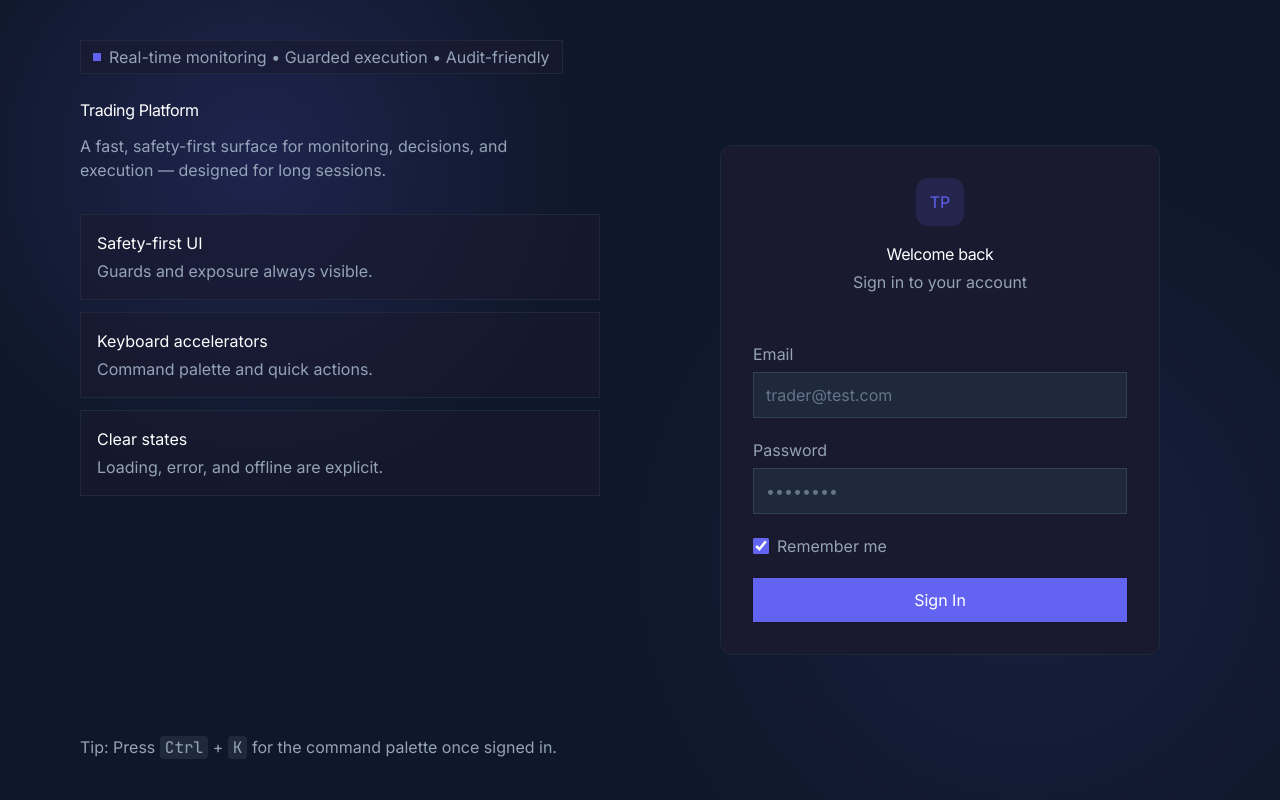
Scenario: LoginPage › shows validation error for empty password
In the field with test id "email-input": (940, 395) [753, 372, 1127, 418], type "test@example.com"
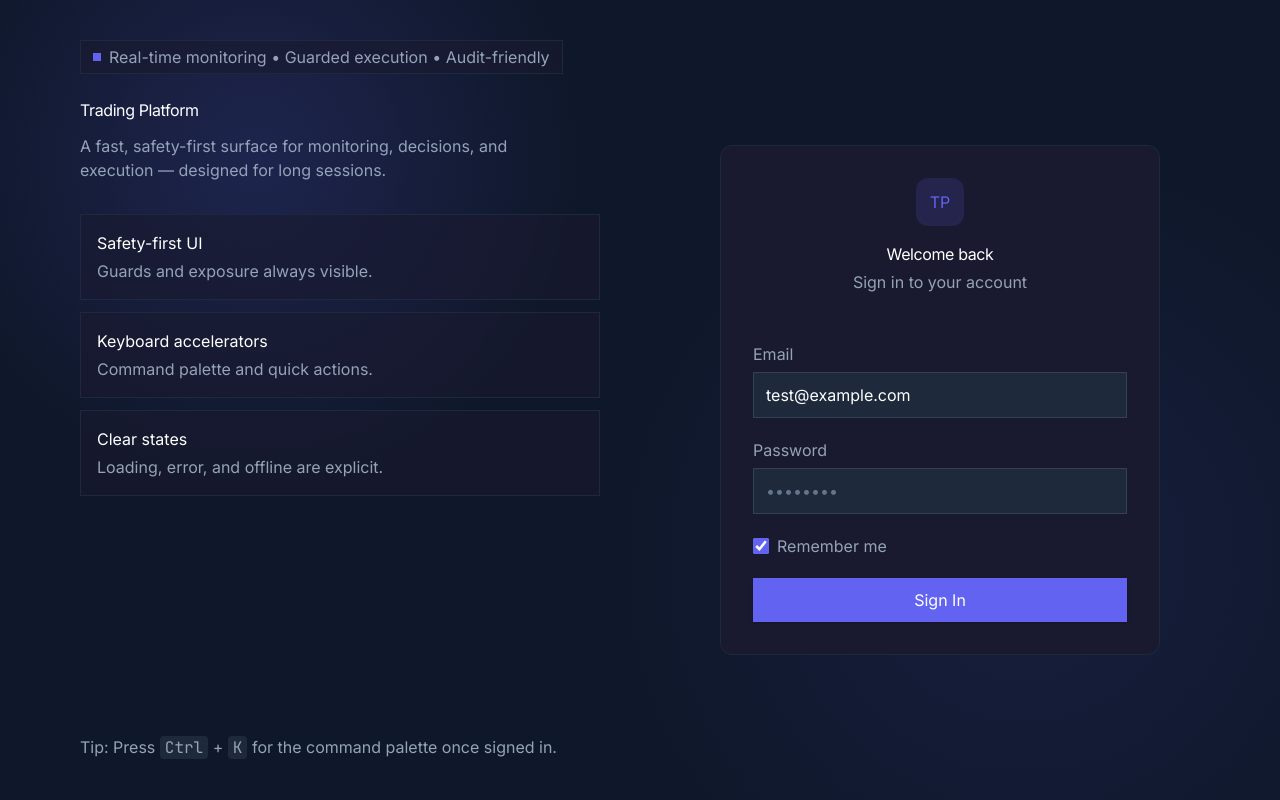
Click the button with test id "login-button": (940, 600) [753, 578, 1127, 622]
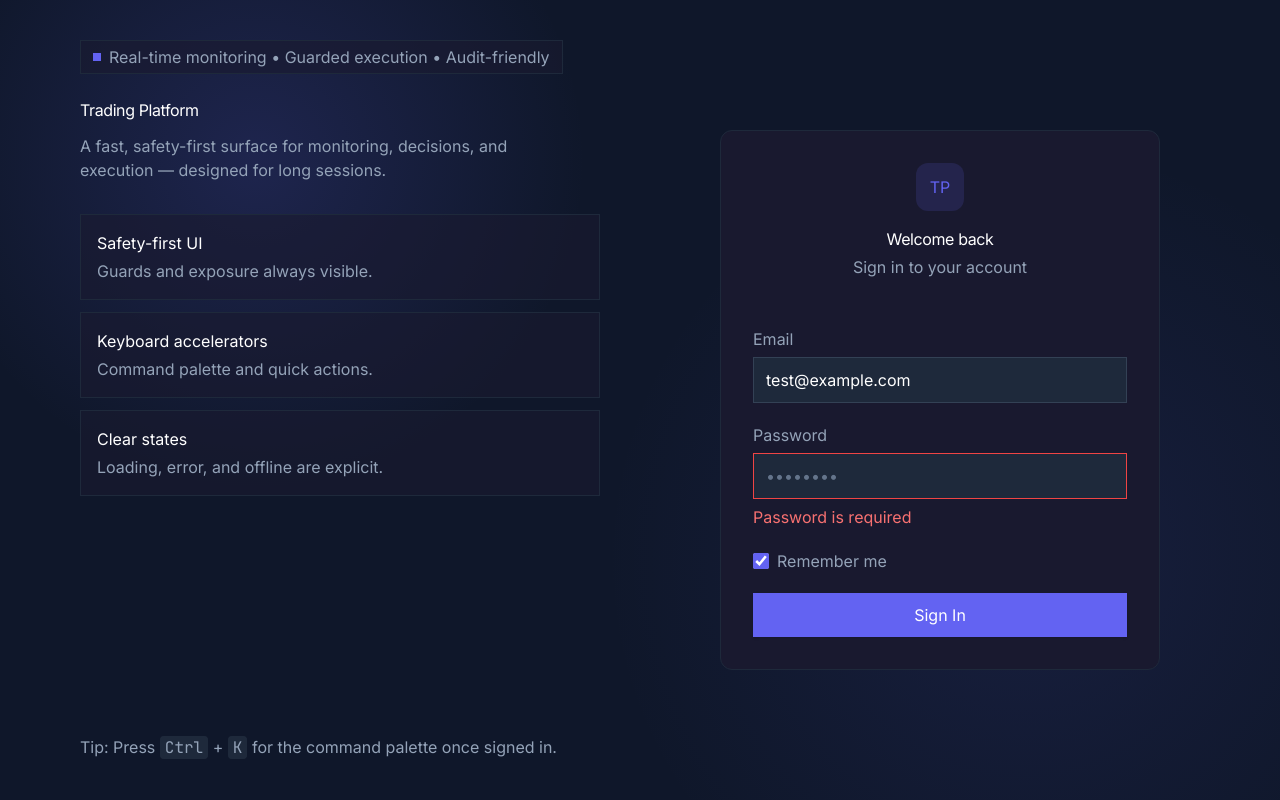
Expected: the text "Password is required" is shown, [753, 507, 912, 527]
